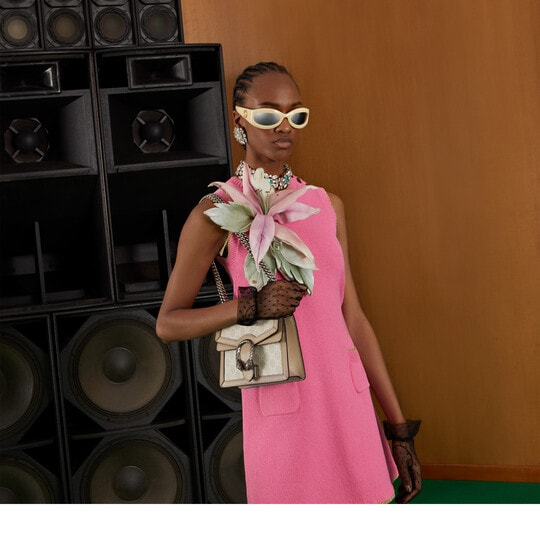Gucci: (201, 307, 335, 400), (232, 336, 261, 369)
